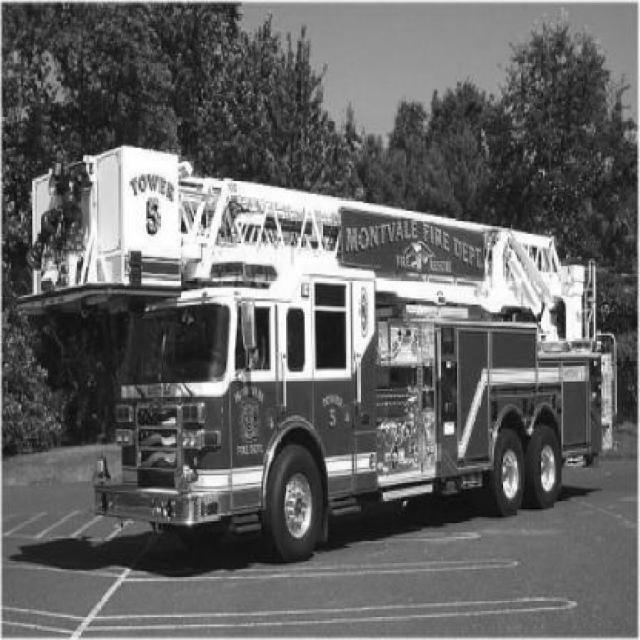Fire Truck: (19, 147, 617, 566)
